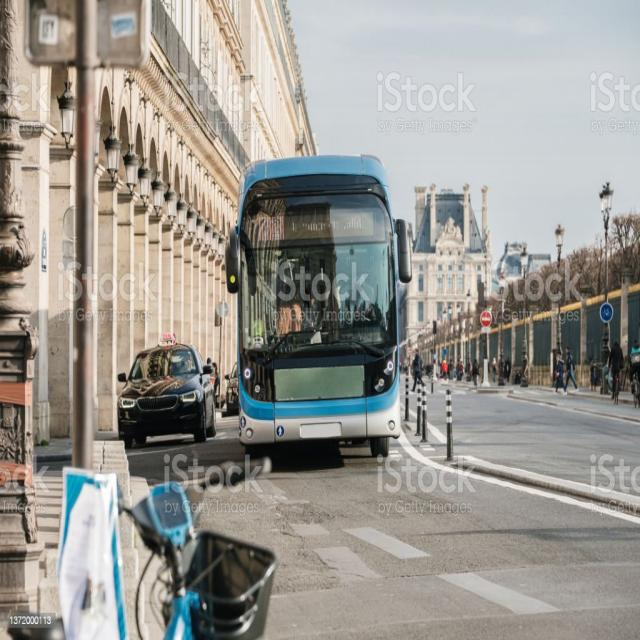Lamppost: (594, 180, 616, 359), (550, 217, 566, 358), (518, 241, 532, 368), (496, 280, 506, 374)
bus: (216, 156, 402, 461)
car: (108, 302, 212, 443)
column: (441, 389, 457, 460), (420, 380, 429, 446), (414, 376, 420, 443)
